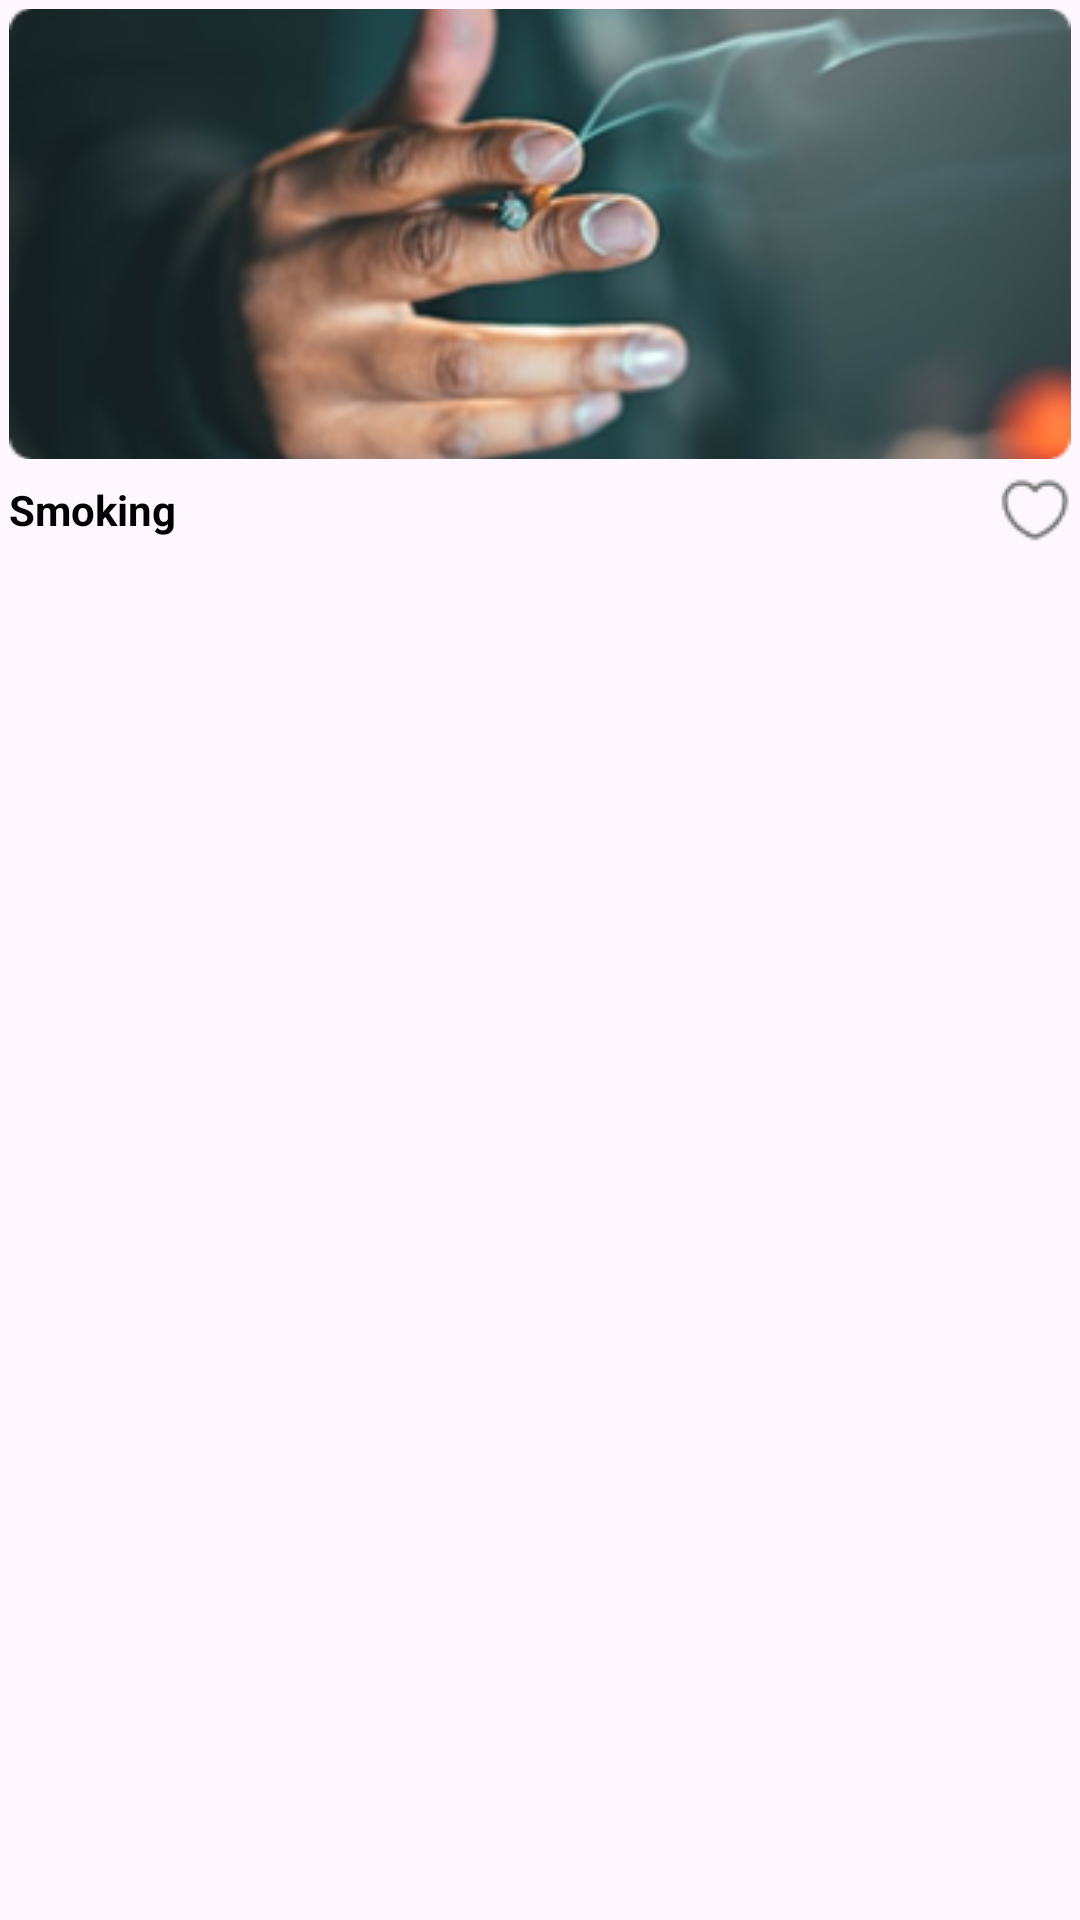

Icons on this 1080w x 1920h Android screen, each with its box as (x1, y1, x2, y2):
heart: (1001, 479, 1069, 541)
